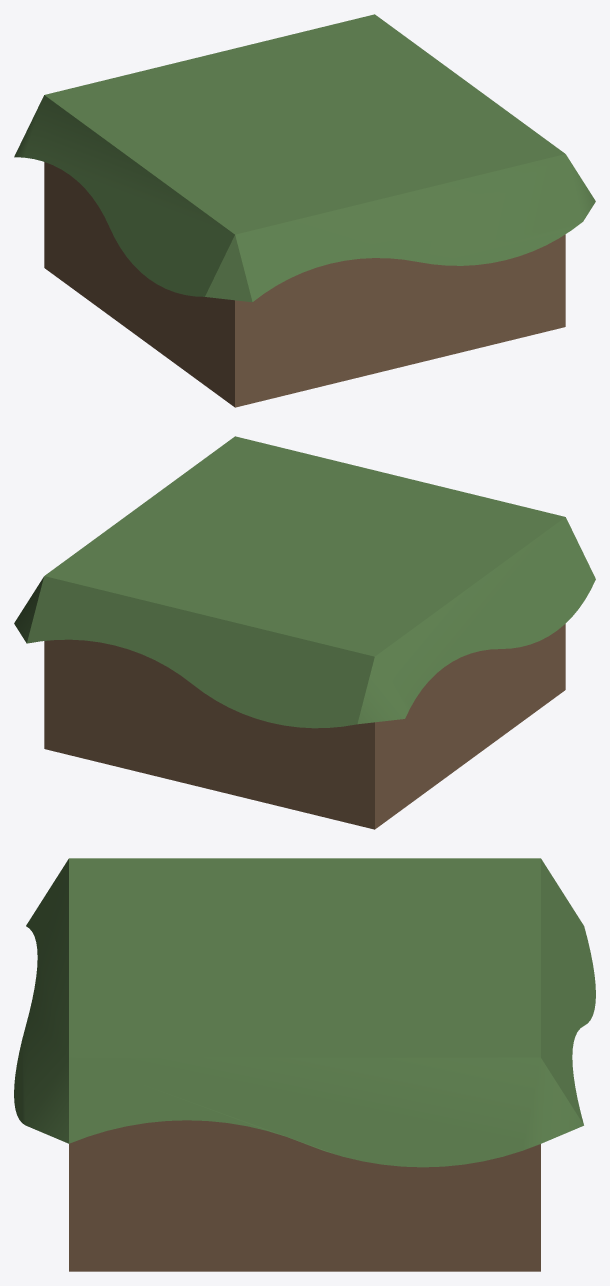
File: wallgroup03_1.fbx
3 views of the same model, one above another, from view 1: azimuth 30°, elevation 25°; view 2: azimuth 150°, elevation 25°; view 3: azimuth 270°, elevation 25° (orthographic). The views are drawn at different scales.
Parts seen in each view (by area): view 1: blockSnowHalf.004; view 2: blockSnowHalf.004; view 3: blockSnowHalf.004.
Boxes of the visible parts, x1,y1,x2,y2 form: blockSnowHalf.004: (14,14,595,407); blockSnowHalf.004: (14,436,595,829); blockSnowHalf.004: (14,858,595,1271).
Size of the model in its own units: 1.23 by 0.5 by 1.23.
